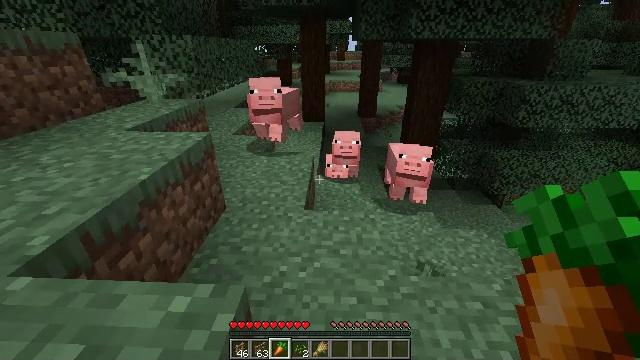pig: (248, 78, 305, 143), (385, 142, 433, 205), (333, 131, 362, 164), (324, 156, 350, 179)
